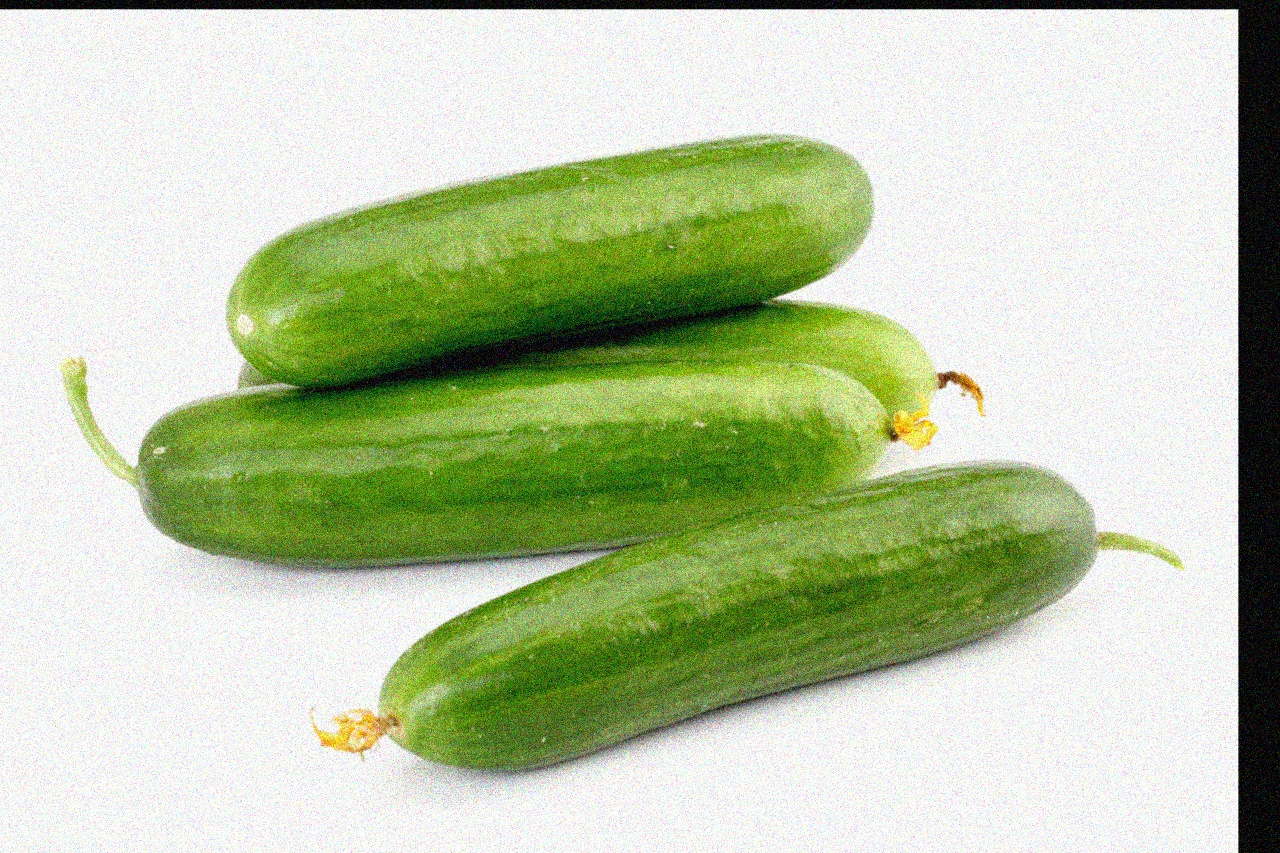cucumber: (378, 482, 1097, 750), (124, 346, 902, 565), (223, 156, 869, 385)
